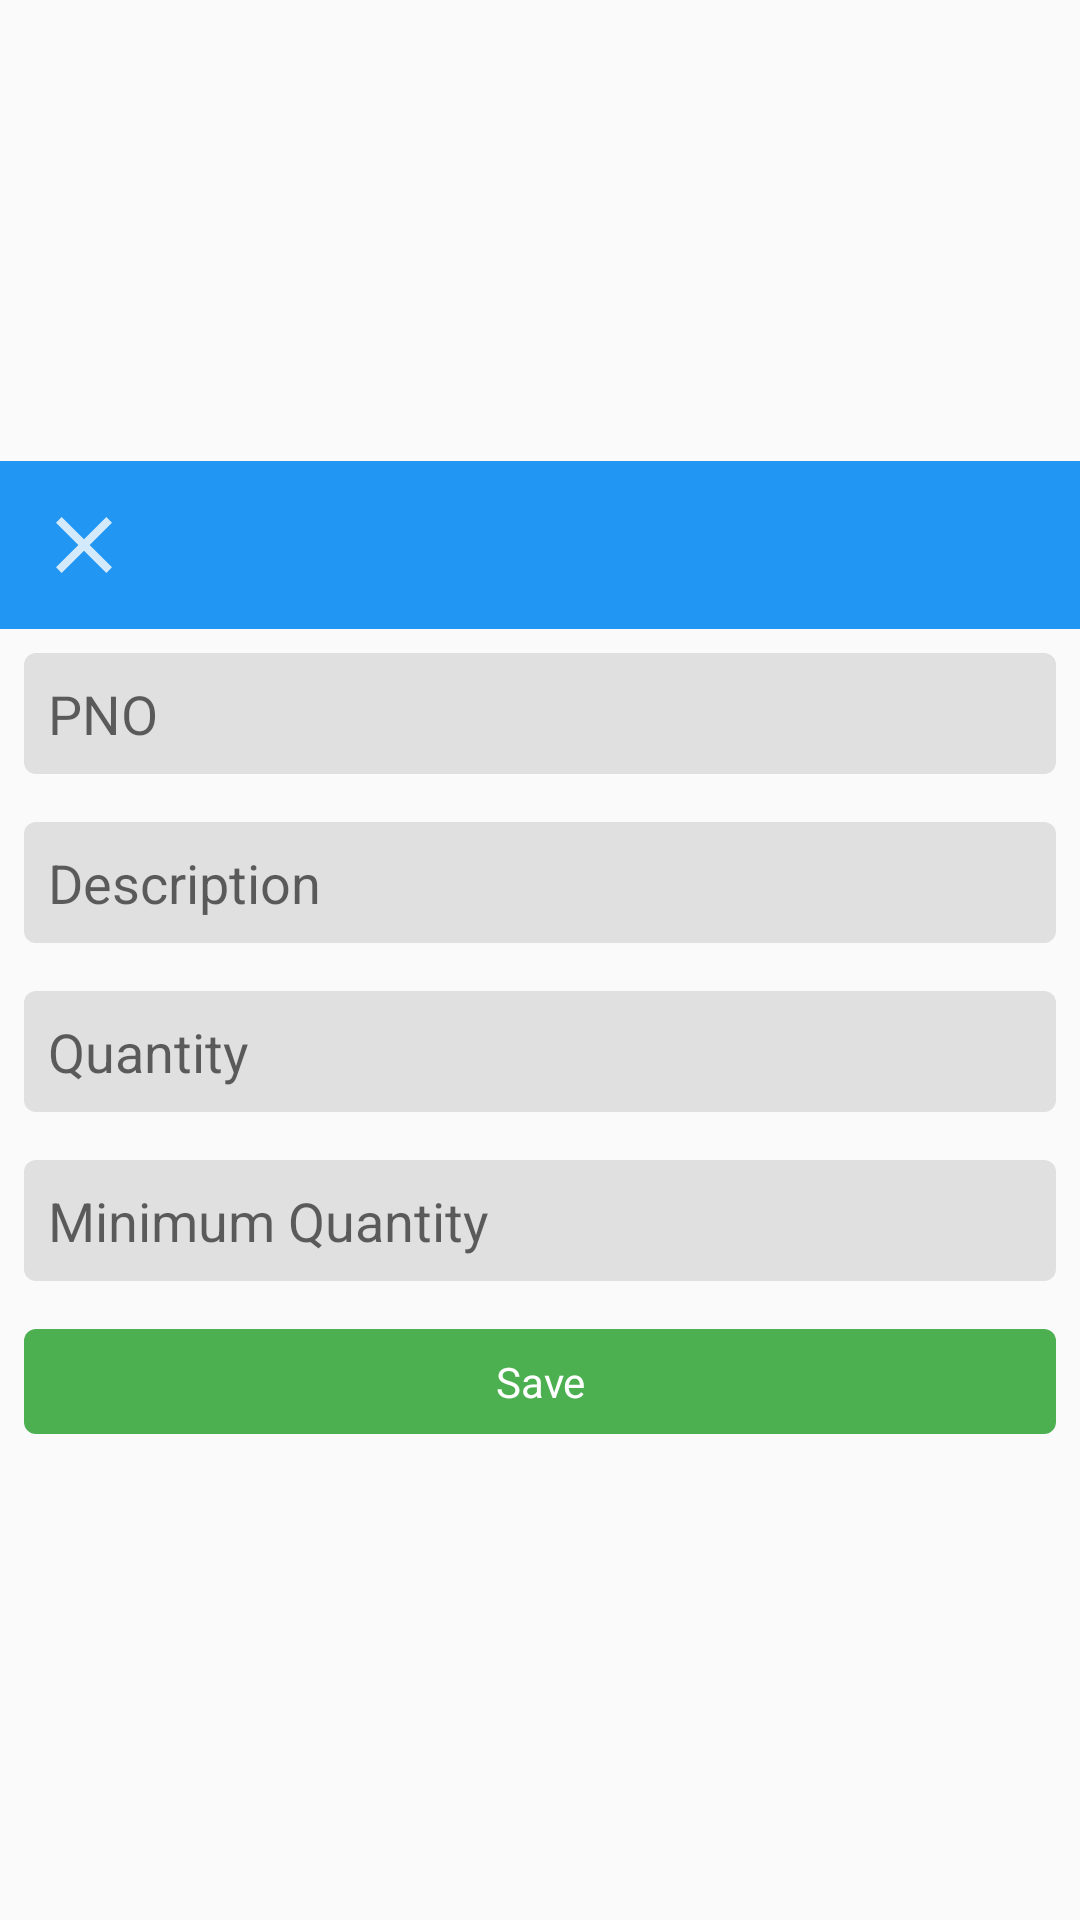

Where icons sit on this 1080w x 1920h app screen, as (x1, y1, x2, y2):
close: (56, 517, 112, 573)
